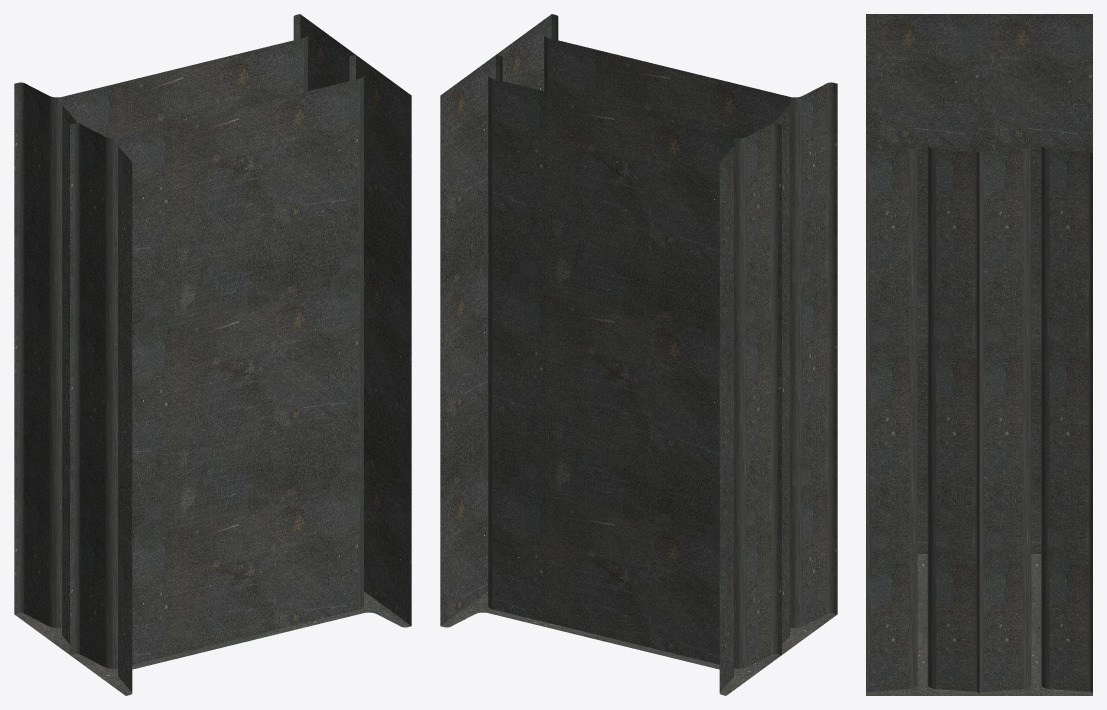
The picture shows the model from 3 angles, left to right: view 1: azimuth 30°, elevation 25°; view 2: azimuth 150°, elevation 25°; view 3: azimuth 270°, elevation 25°; orthographic projection.
Visible parts, largest first — view 1: 0_1_3_3_0_3_2_3_3_2; view 2: 0_1_3_3_0_3_2_3_3_2; view 3: 0_1_3_3_0_3_2_3_3_2.
Boxes of the visible parts, x1=… form: 0_1_3_3_0_3_2_3_3_2: x1=14, y1=14, x2=411, y2=695; 0_1_3_3_0_3_2_3_3_2: x1=440, y1=14, x2=837, y2=695; 0_1_3_3_0_3_2_3_3_2: x1=866, y1=14, x2=1092, y2=695.
Bounding box in the file's own units: 0.45 × 0.798 × 0.304.
Materials: 2 (2 with a texture image).
